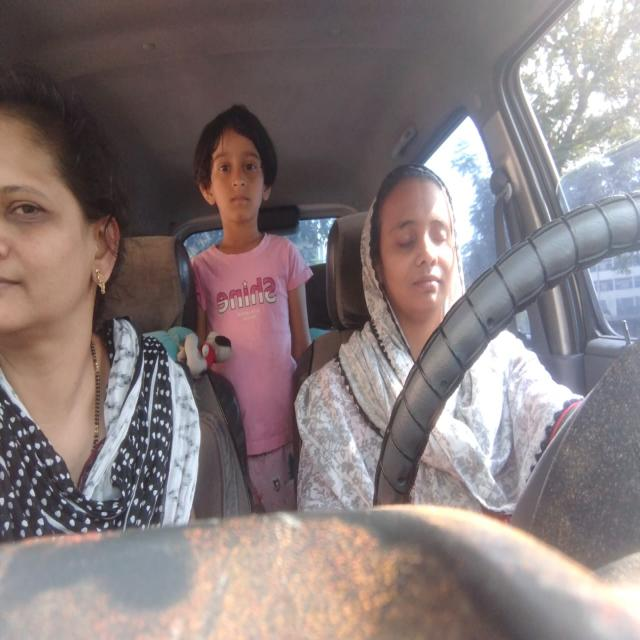drowsy: (367, 168, 460, 311)
person: (0, 69, 122, 336), (195, 110, 278, 221)
